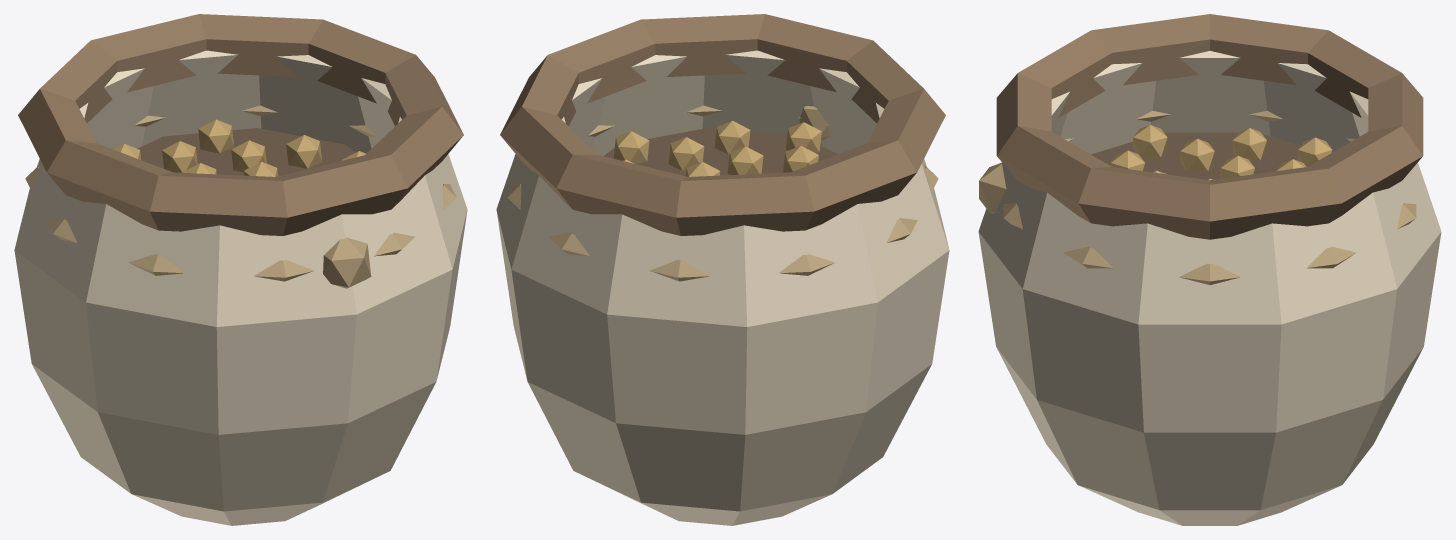
The model's file is Seedbag2.0.fbx.
The picture shows the model from 3 angles, left to right: view 1: azimuth 30°, elevation 25°; view 2: azimuth 150°, elevation 25°; view 3: azimuth 270°, elevation 25°; orthographic projection.
Visible parts, largest first — view 1: Tool_SeedBag, Bag_Seeds; view 2: Tool_SeedBag, Bag_Seeds; view 3: Tool_SeedBag, Bag_Seeds.
Part boxes in pixels (x1,y1,x2,y2): Tool_SeedBag: [14, 14, 467, 525]; Bag_Seeds: [113, 119, 365, 176]; Tool_SeedBag: [496, 14, 949, 525]; Bag_Seeds: [603, 120, 837, 176]; Tool_SeedBag: [978, 14, 1441, 525]; Bag_Seeds: [1091, 125, 1332, 180].
Size of the model in its own units: 15.49 by 14.91 by 16.
